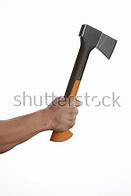axe: (47, 23, 118, 146)
